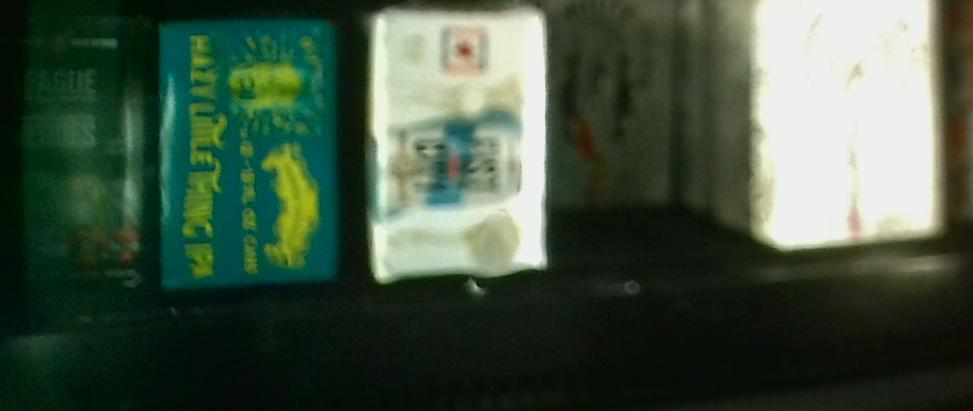bottle: (715, 1, 946, 246), (364, 3, 547, 287), (157, 19, 347, 288), (6, 18, 155, 300)
